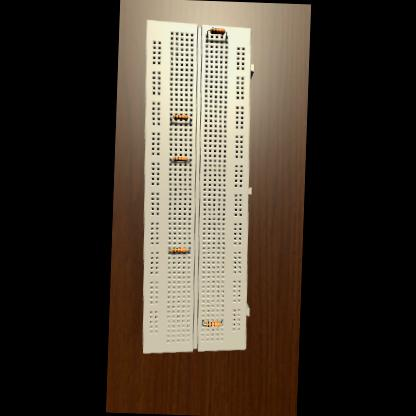breadboard: (134, 19, 260, 356)
resistor: (210, 26, 224, 34), (172, 246, 186, 252), (206, 320, 220, 326), (173, 114, 187, 118), (172, 156, 186, 160)
wire: (206, 30, 210, 36), (202, 319, 206, 323), (224, 31, 226, 38), (186, 247, 189, 250), (220, 320, 222, 324), (170, 116, 172, 119), (168, 247, 171, 249), (188, 117, 190, 120), (187, 158, 190, 160), (170, 158, 172, 160)
